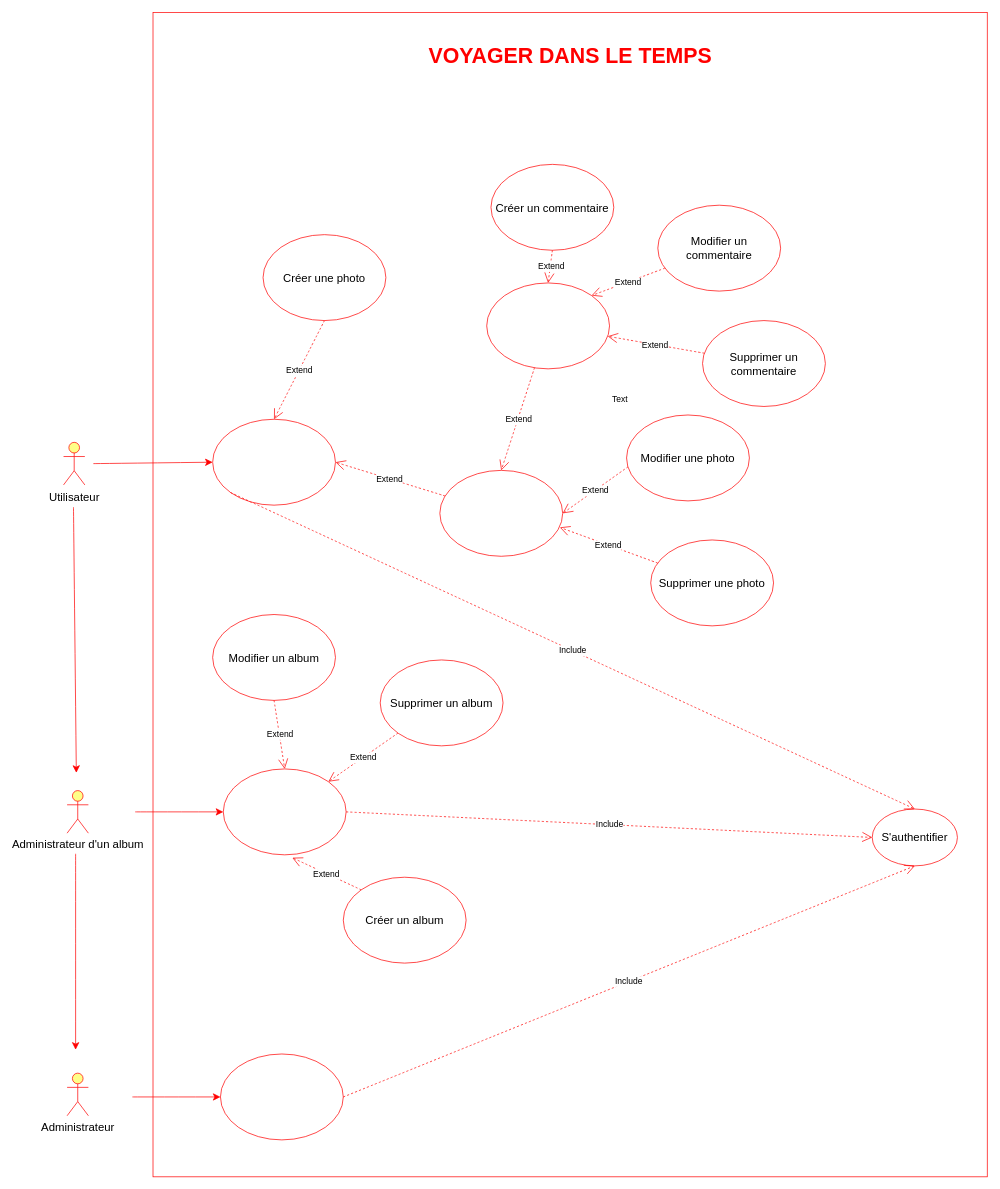
Some shapes in this 1000 by 1189 pixel diagram are drawn without their labels. The shapes that lost their labels are listed below. From the top down, each one's box as (x1, y1, x2, y2) in pixels, then its label:
(486, 282, 610, 369): Visualiser un commentaire
(212, 419, 335, 505): Visualiser toutes les photos d'un album
(439, 470, 563, 556): Visualiser une photo
(223, 768, 346, 855): Visualiser ses albums
(220, 1053, 343, 1140): Visualiser tous les albums
